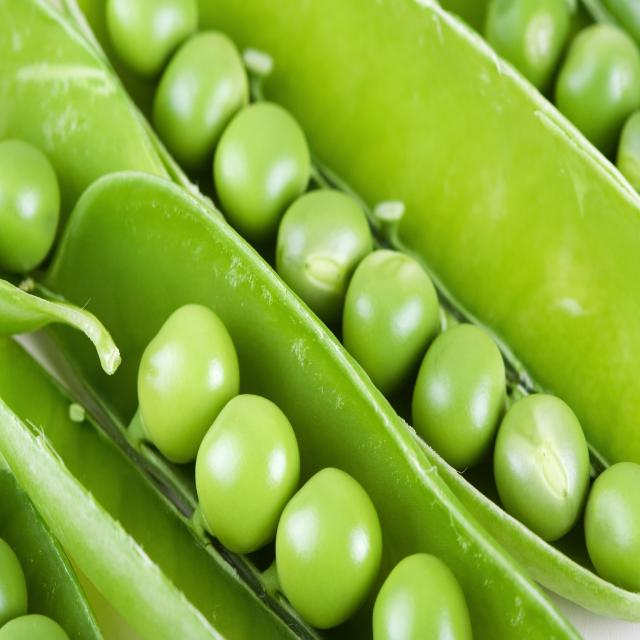Peas: (132, 299, 380, 633), (215, 95, 438, 379), (419, 321, 640, 575)
